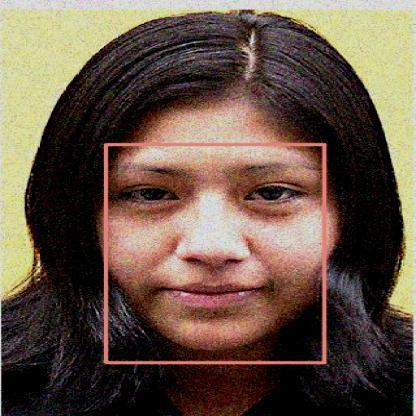without_mask: (105, 144, 324, 362)
